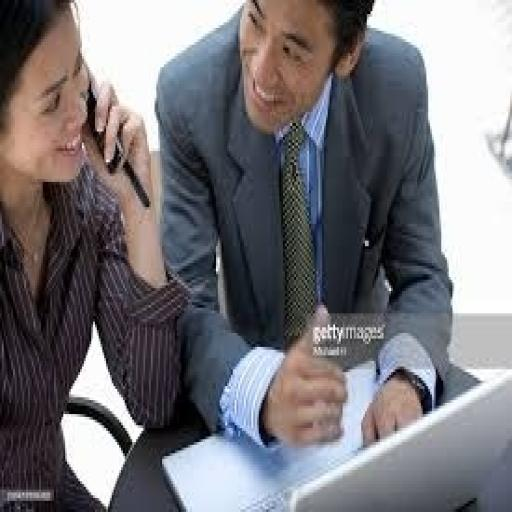using_laptop: (119, 274, 510, 512)
